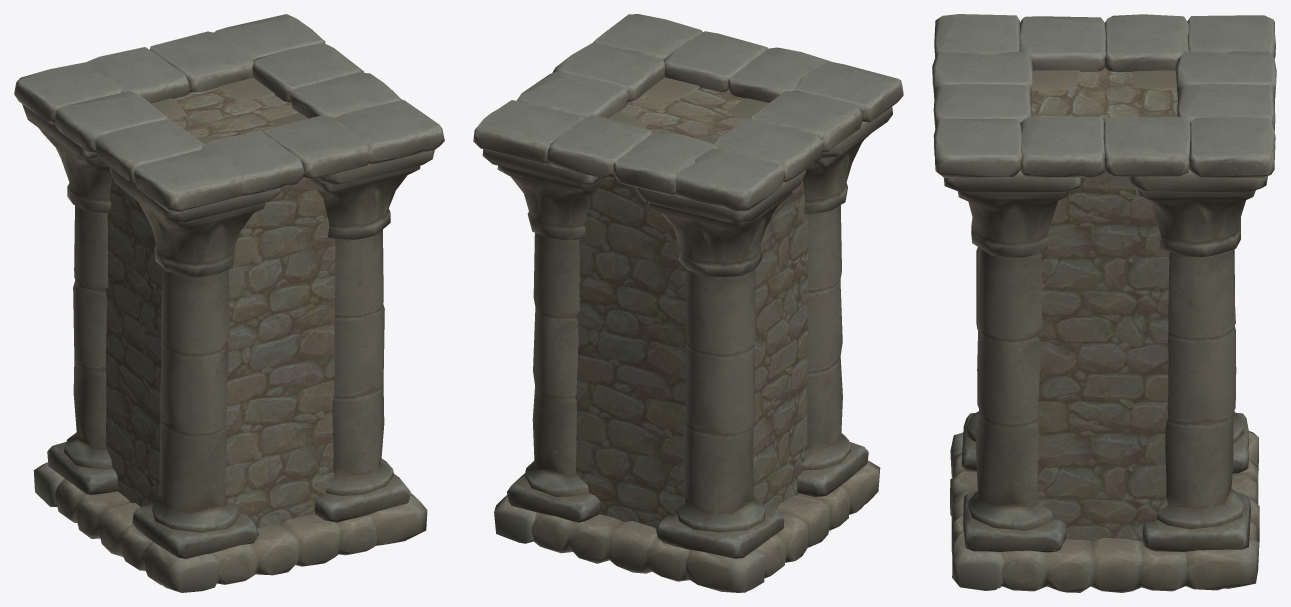
File: SM_FW01_Ruins_Int_Pillar_B_2x4_01.fbx
The picture shows the model from 3 angles, left to right: view 1: azimuth 30°, elevation 25°; view 2: azimuth 150°, elevation 25°; view 3: azimuth 270°, elevation 25°; orthographic projection. The views are drawn at different scales.
Visible parts, largest first — view 1: SM_FW01_Ruins_Int_Pillar_B_2x4_01_LOD0, SM_FW01_Ruins_Int_Pillar_B_2x4_01; view 2: SM_FW01_Ruins_Int_Pillar_B_2x4_01_LOD0, SM_FW01_Ruins_Int_Pillar_B_2x4_01; view 3: SM_FW01_Ruins_Int_Pillar_B_2x4_01_LOD0, SM_FW01_Ruins_Int_Pillar_B_2x4_01.
Part boxes in pixels (<box>): SM_FW01_Ruins_Int_Pillar_B_2x4_01_LOD0: <box>14,14,444,592</box>; SM_FW01_Ruins_Int_Pillar_B_2x4_01: <box>105,88,335,528</box>; SM_FW01_Ruins_Int_Pillar_B_2x4_01_LOD0: <box>473,14,903,592</box>; SM_FW01_Ruins_Int_Pillar_B_2x4_01: <box>575,87,808,527</box>; SM_FW01_Ruins_Int_Pillar_B_2x4_01_LOD0: <box>932,14,1276,592</box>; SM_FW01_Ruins_Int_Pillar_B_2x4_01: <box>1031,68,1177,541</box>.
Size of what is drawn, in the model's own units: 2.97 by 4.26 by 2.99.
